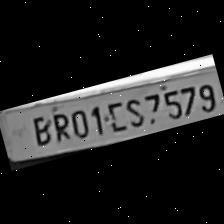0: (64, 104, 92, 140)
1: (84, 100, 108, 137)
5: (157, 83, 184, 122)
7: (139, 88, 165, 125), (174, 82, 198, 117)
9: (190, 78, 220, 114)
B: (24, 111, 54, 148)
C: (100, 95, 127, 134)
R: (46, 106, 72, 144)
S: (118, 92, 146, 130)
